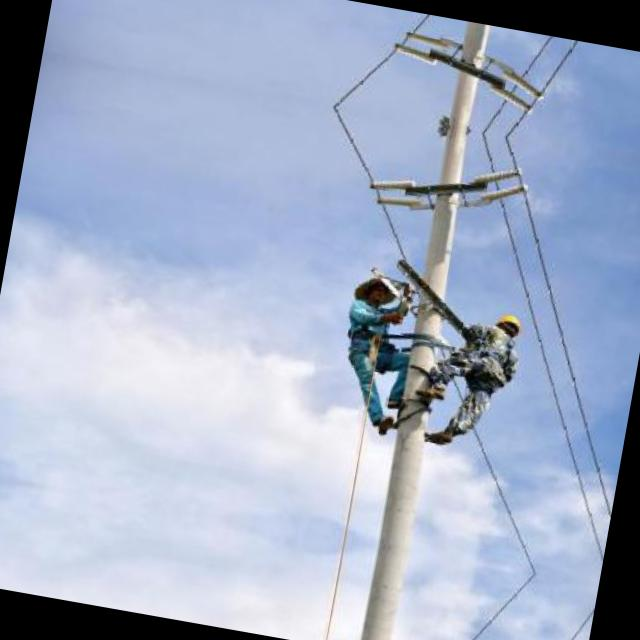helmet: (490, 306, 526, 341)
